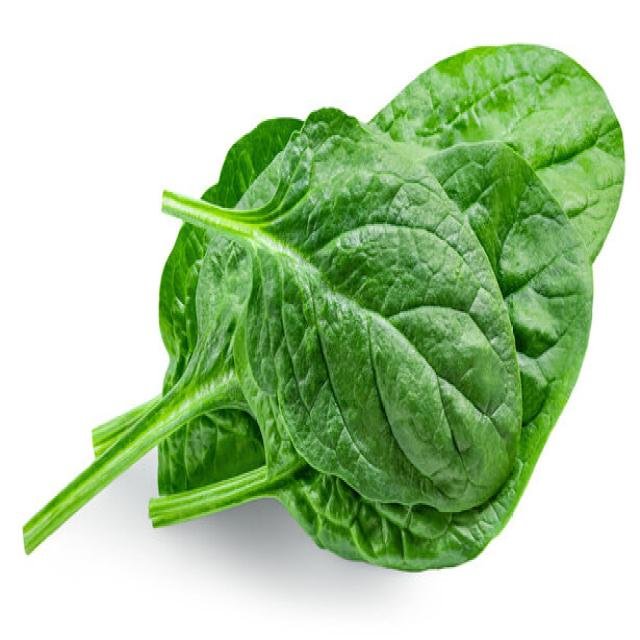Spinach: (22, 41, 625, 572)
